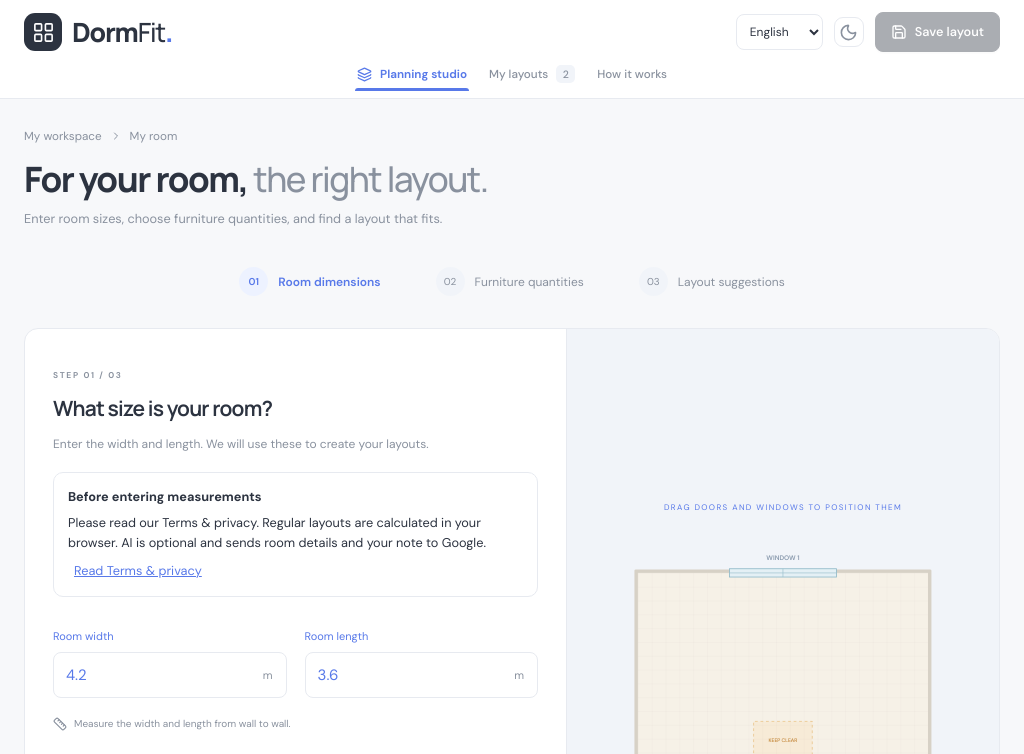
saved layout deletion › deletes only the confirmed saved copy and preserves the current workspace
Click the button "My layouts 2" at point(532, 74), box 487,58 -> 577,90
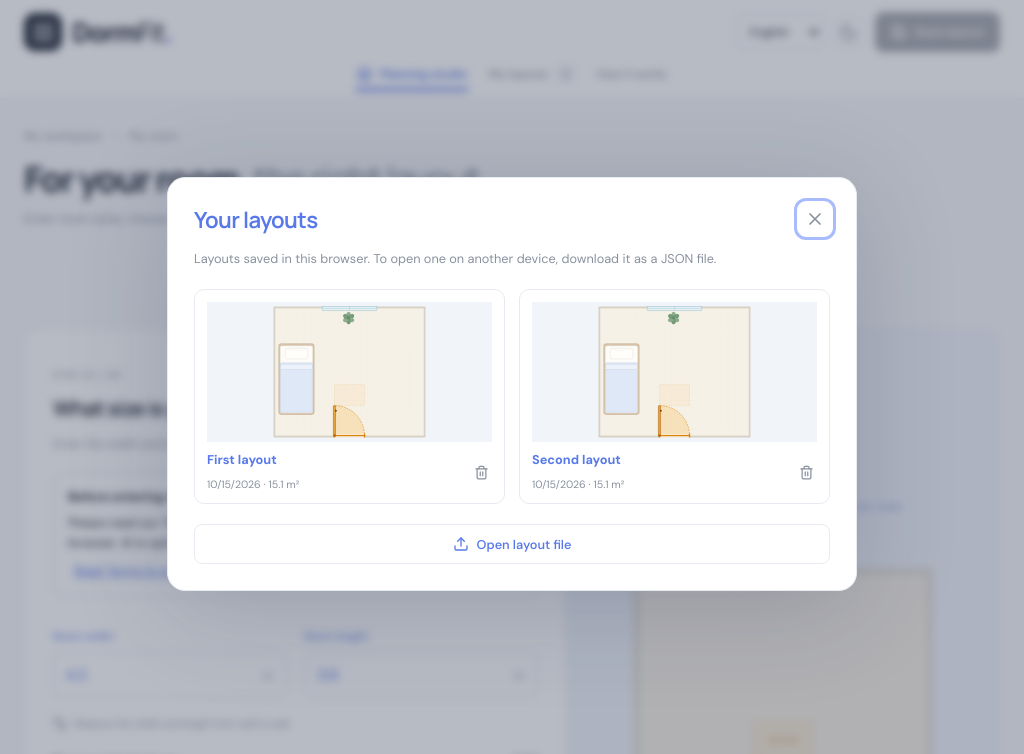
Click the button named "First layout delete layout" at point(481, 472), box 466,457 -> 496,487
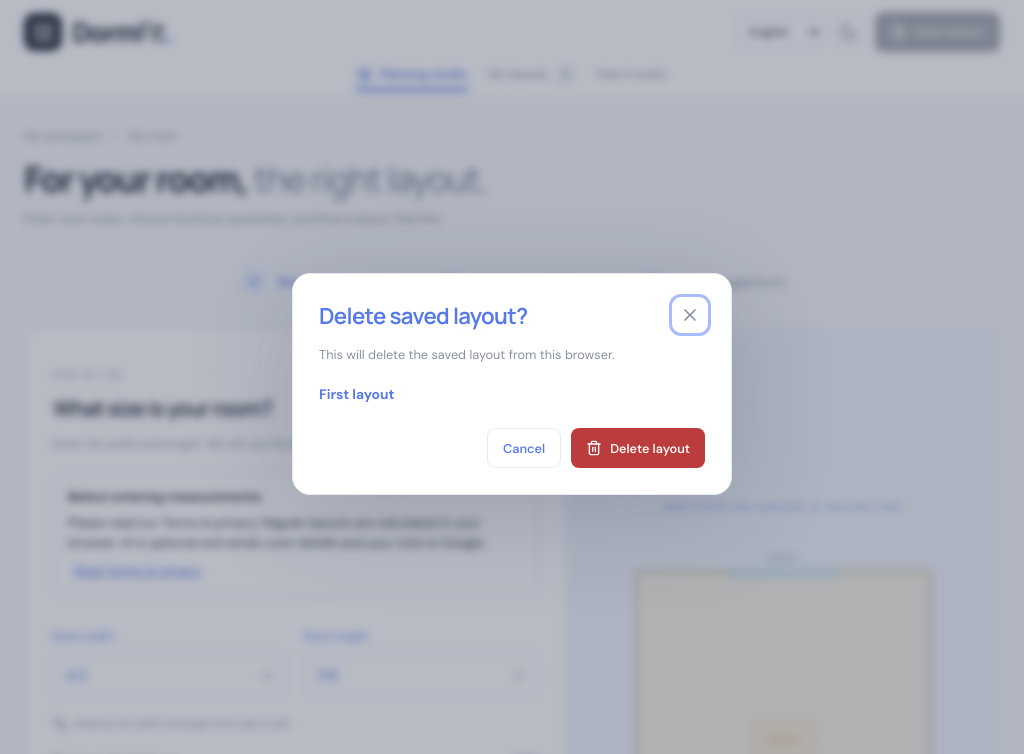
Click the button "Delete layout" at point(638, 448), box 571,428 -> 705,468
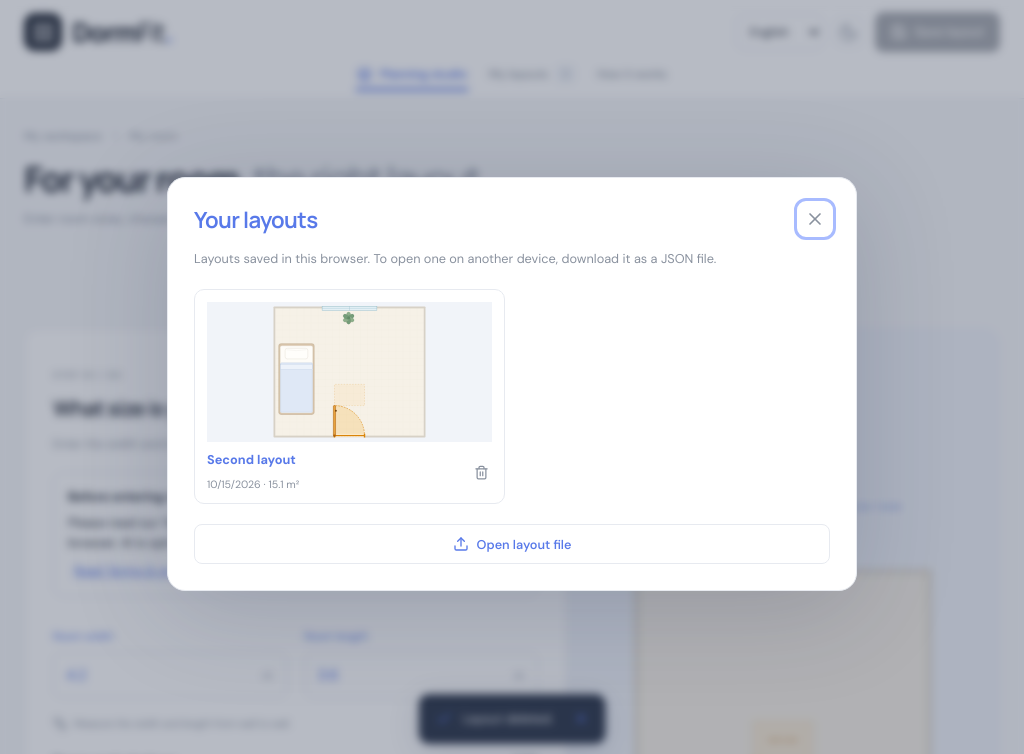
Now the dialog "Your layouts" is shown, box 167,177 -> 857,591
Now the button named "Second layout delete layout" is shown, box 466,457 -> 496,487
